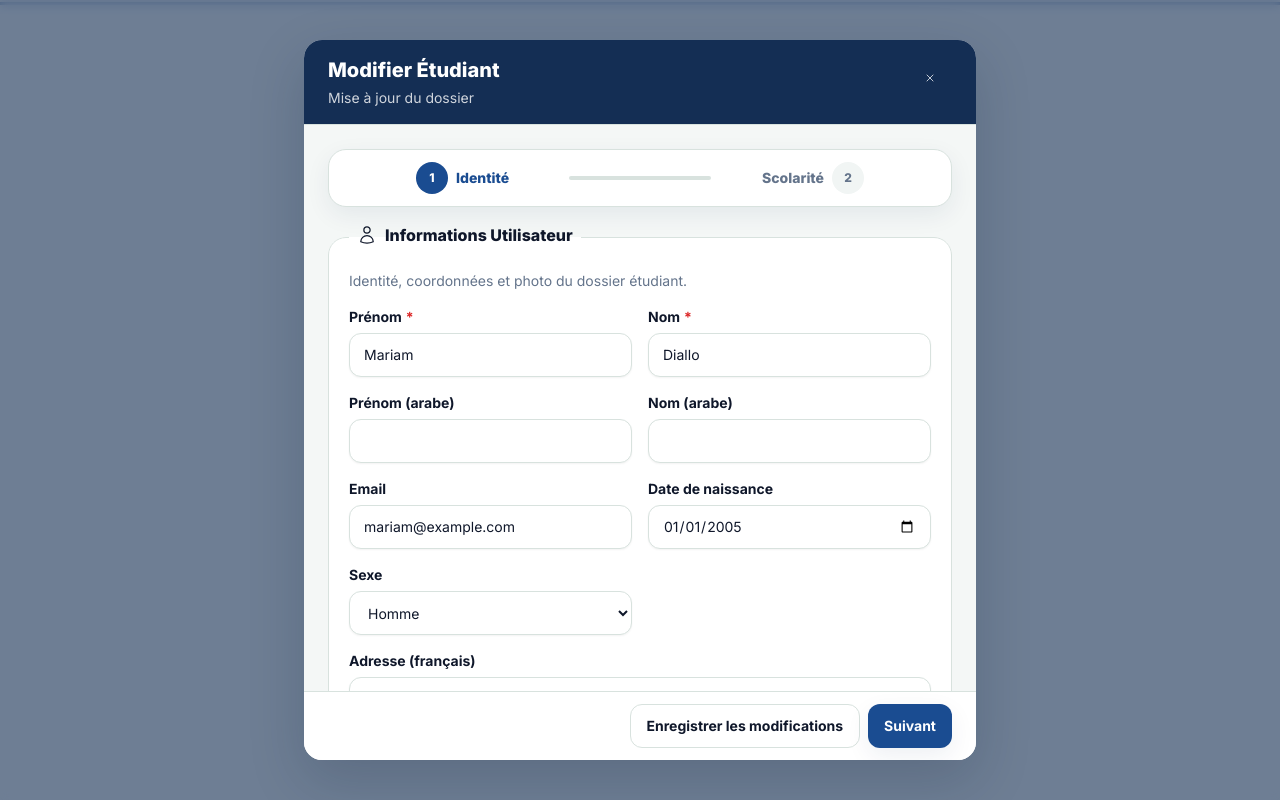
Test: Student form modal UI foundation migration › focuses the error summary when an API failure has no field keys
Replace the text in the field labelled "Prénom*" with "Aïssata" at (490, 355), box 349,333 -> 632,377
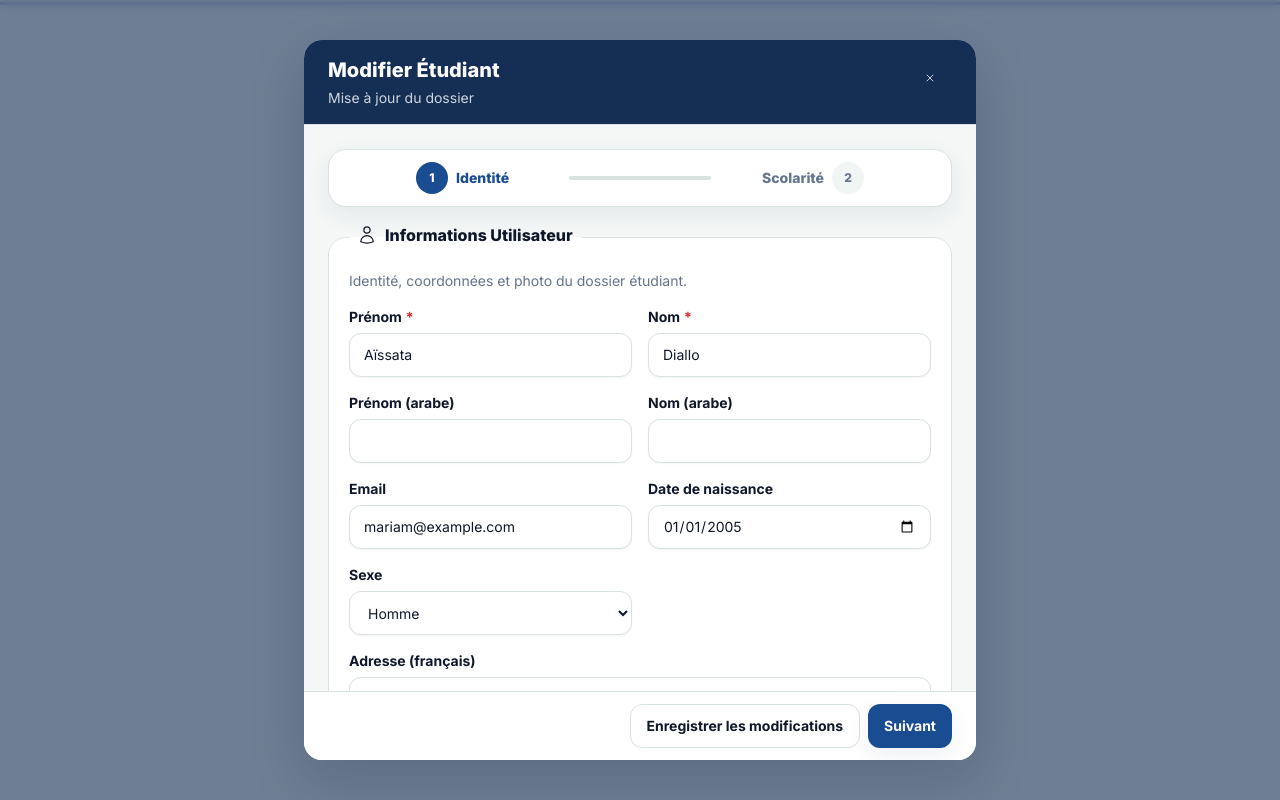
Click the button "Enregistrer les modifications" at (745, 726), box 630,704 -> 860,748
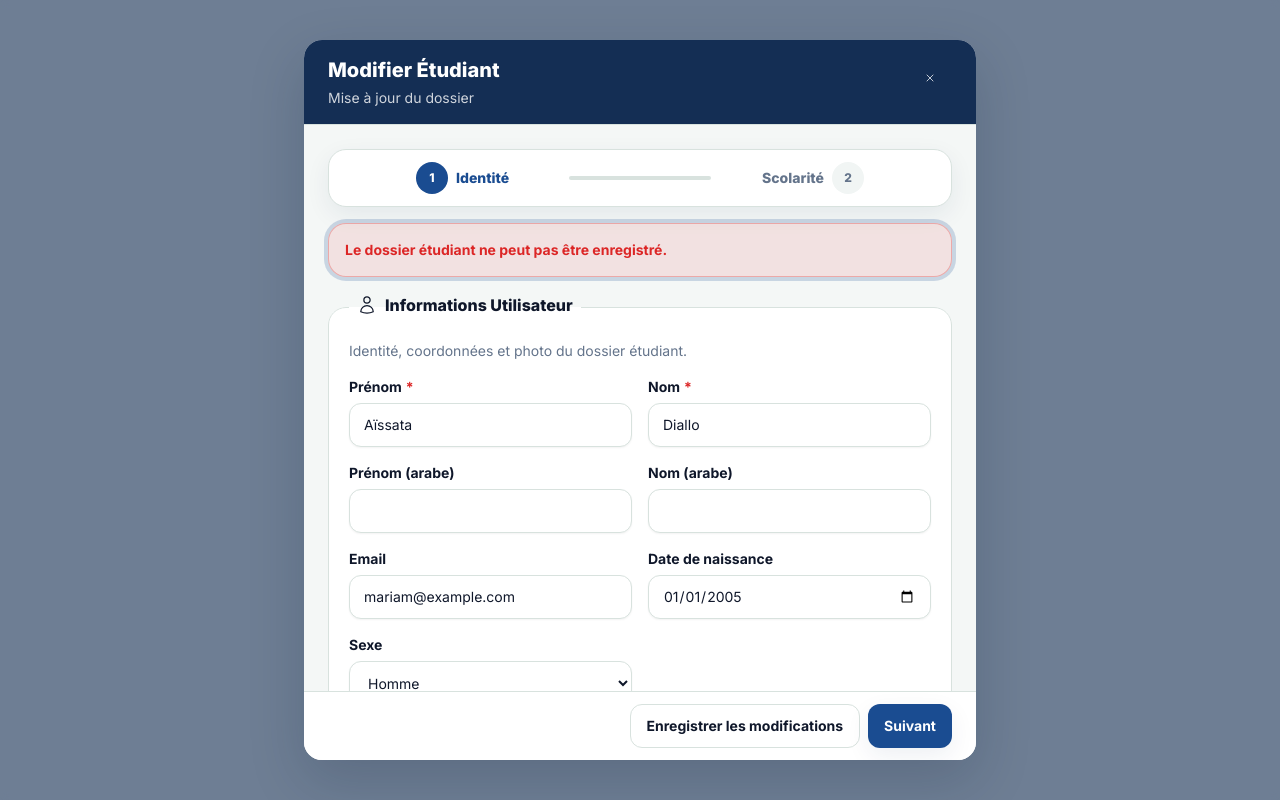
Expected: the message reads "Le dossier étudiant ne peut pas être enregistré.", 345,241 -> 667,258
